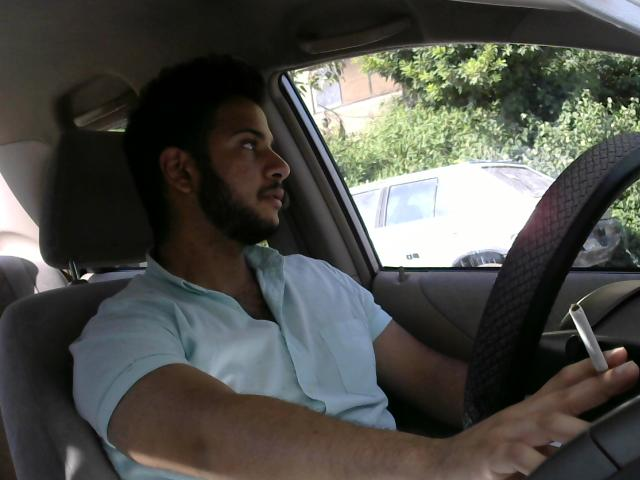Smoking: (571, 302, 619, 377)
